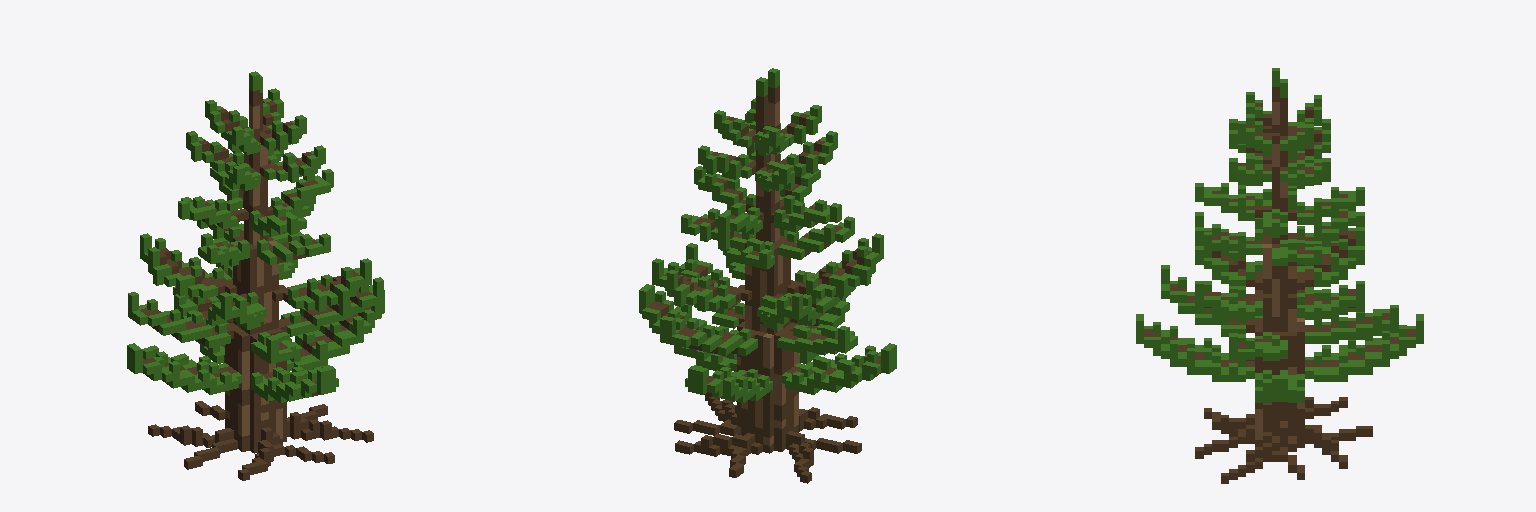
3 views of the same model, side by side, from view 1: azimuth 30°, elevation 25°; view 2: azimuth 150°, elevation 25°; view 3: azimuth 270°, elevation 25° (orthographic).
Parts seen in each view (by area): view 1: tree; view 2: tree; view 3: tree.
Part boxes in pixels (bbox=[...]): tree: bbox=[127, 71, 384, 480]; tree: bbox=[639, 68, 896, 483]; tree: bbox=[1136, 68, 1423, 483].
Bounding box in the file's own units: 3.4 × 4.8 × 3.4.
Materials: 1 (1 with a texture image).